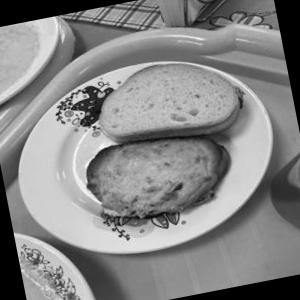bread: (84, 45, 244, 156)
cheese_sandwich: (68, 113, 242, 232)
